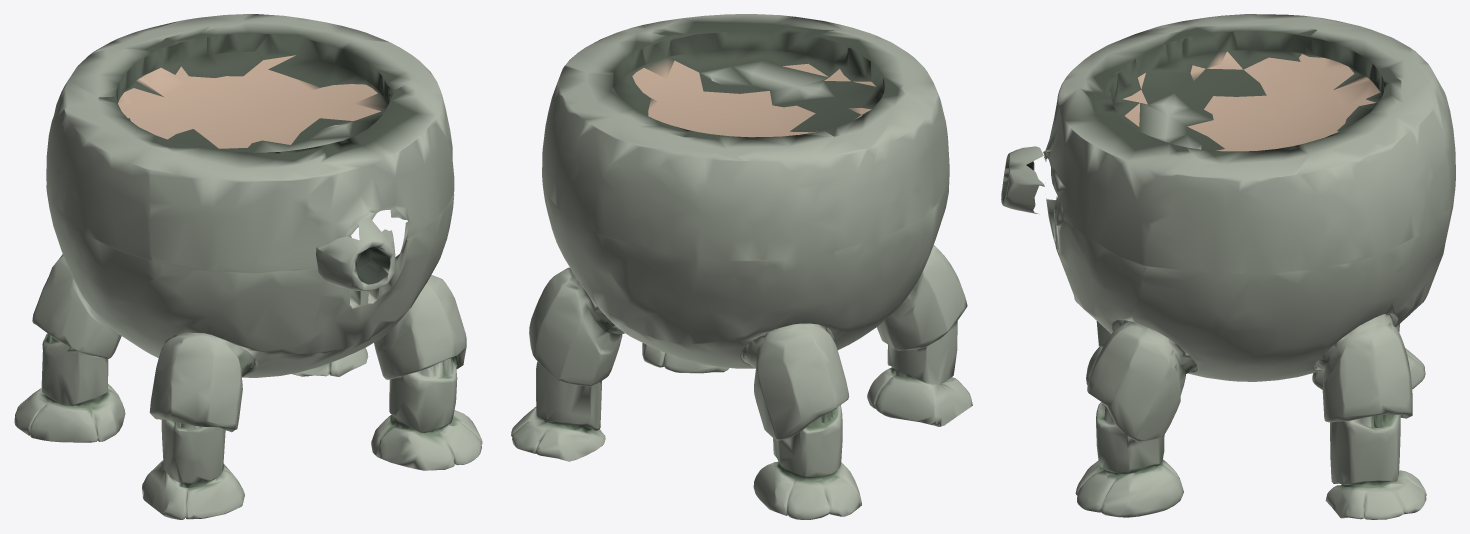
Rendered from body.glb.
3 views of the same model, side by side, from view 1: azimuth 30°, elevation 25°; view 2: azimuth 150°, elevation 25°; view 3: azimuth 270°, elevation 25° (orthographic). The views are drawn at different scales.
Parts seen in each view (by area): view 1: crucible walker tripo; view 2: crucible walker tripo; view 3: crucible walker tripo.
Boxes of the visible parts, <box> form: crucible walker tripo: <box>14,14,482,519</box>; crucible walker tripo: <box>511,14,972,519</box>; crucible walker tripo: <box>1001,14,1455,519</box>.
Bounding box in the file's own units: 2.09 × 2 × 2.31.
